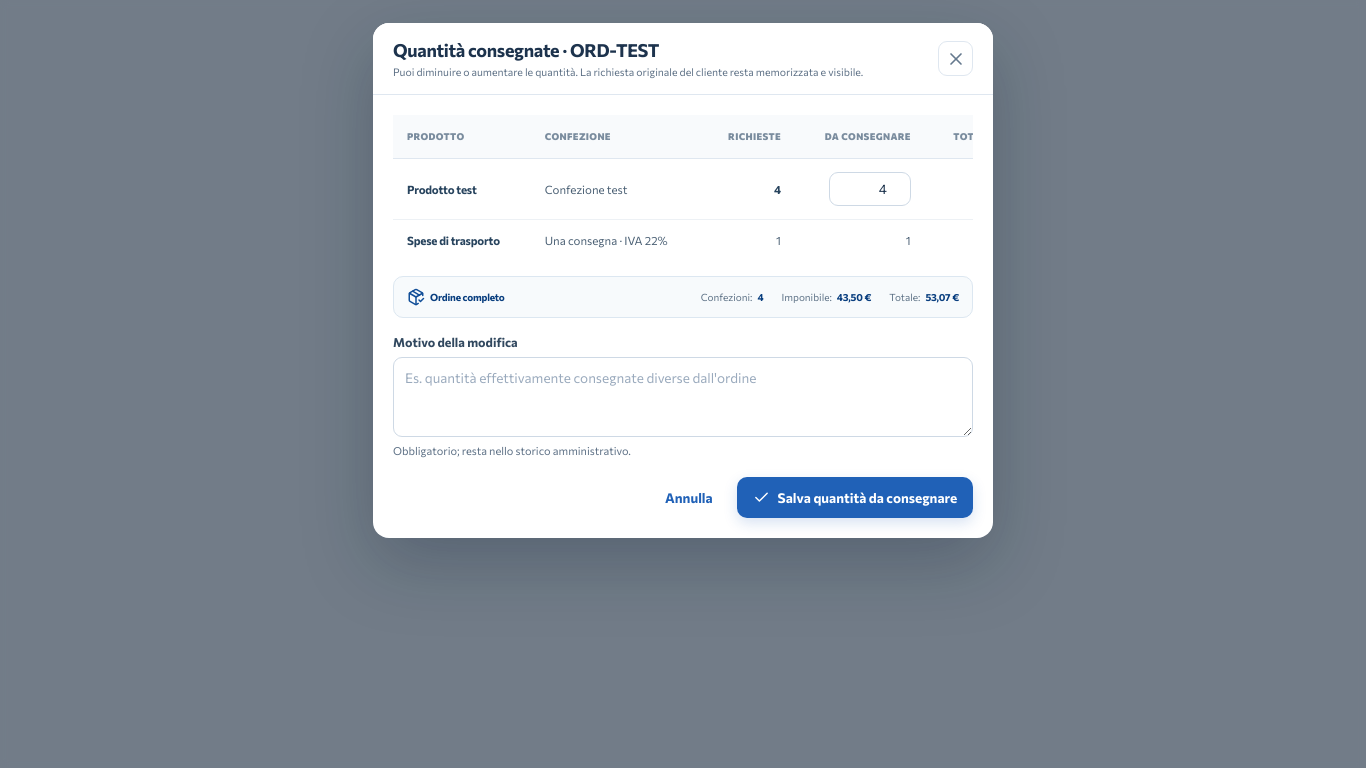
Scenario: AdminFulfillmentEditor › limita la quantità massima a 999
Replace the text in the number field named "Quantità da consegnare di Prodotto test" with "1000" at (870, 188), box [829,172,911,206]
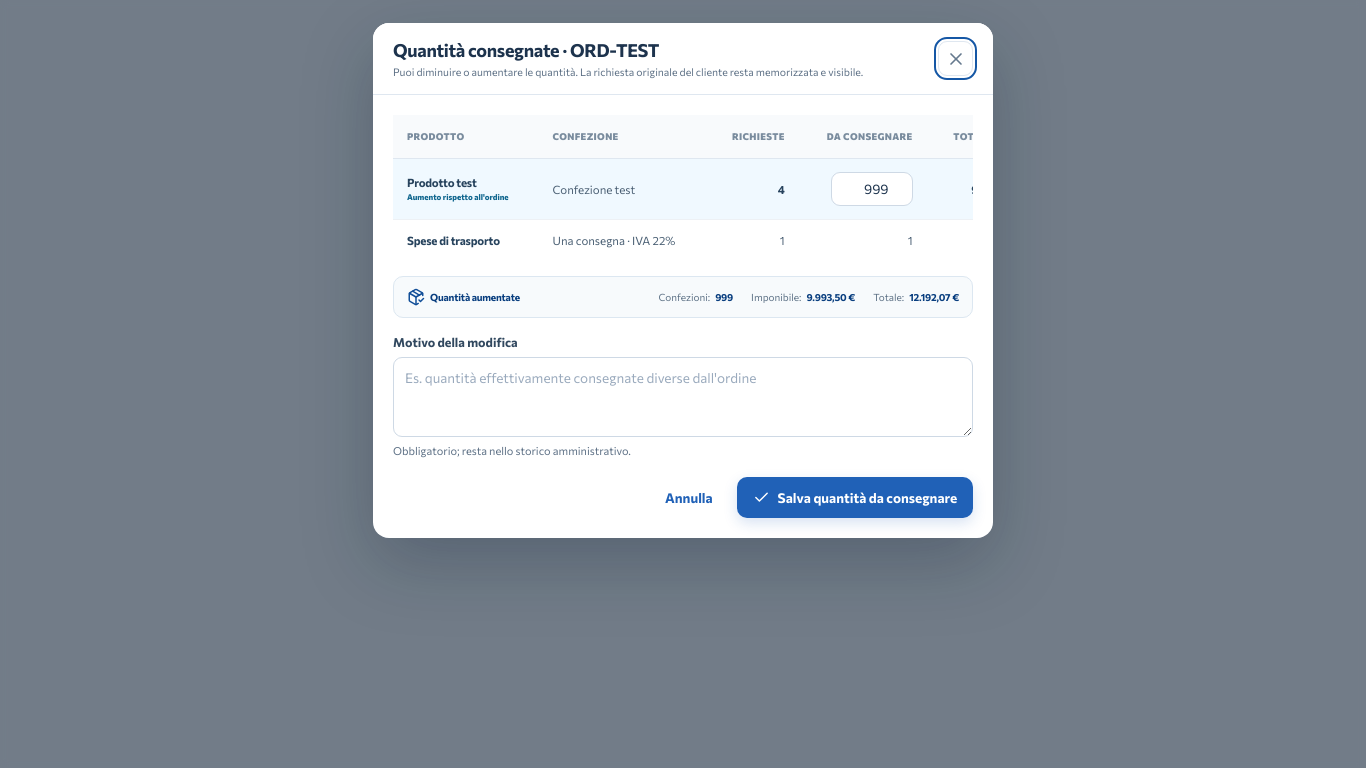
Expected: the number field named "Quantità da consegnare di Prodotto test" holds "999", [831,172,913,206]
